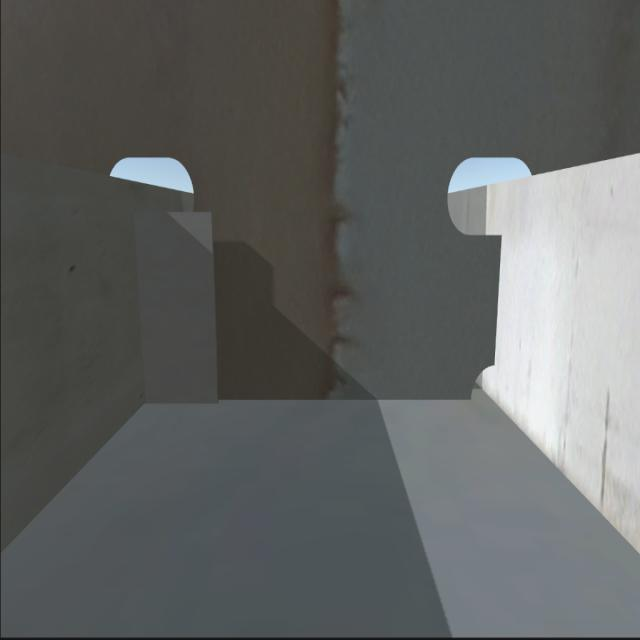fillet_hole: (467, 362, 498, 404)
fillet_yong_jeop_jang: (153, 391, 471, 406)
longi_yong_jeop_jang: (134, 220, 152, 401), (486, 238, 506, 362)
plate_CP01: (140, 208, 221, 402)
